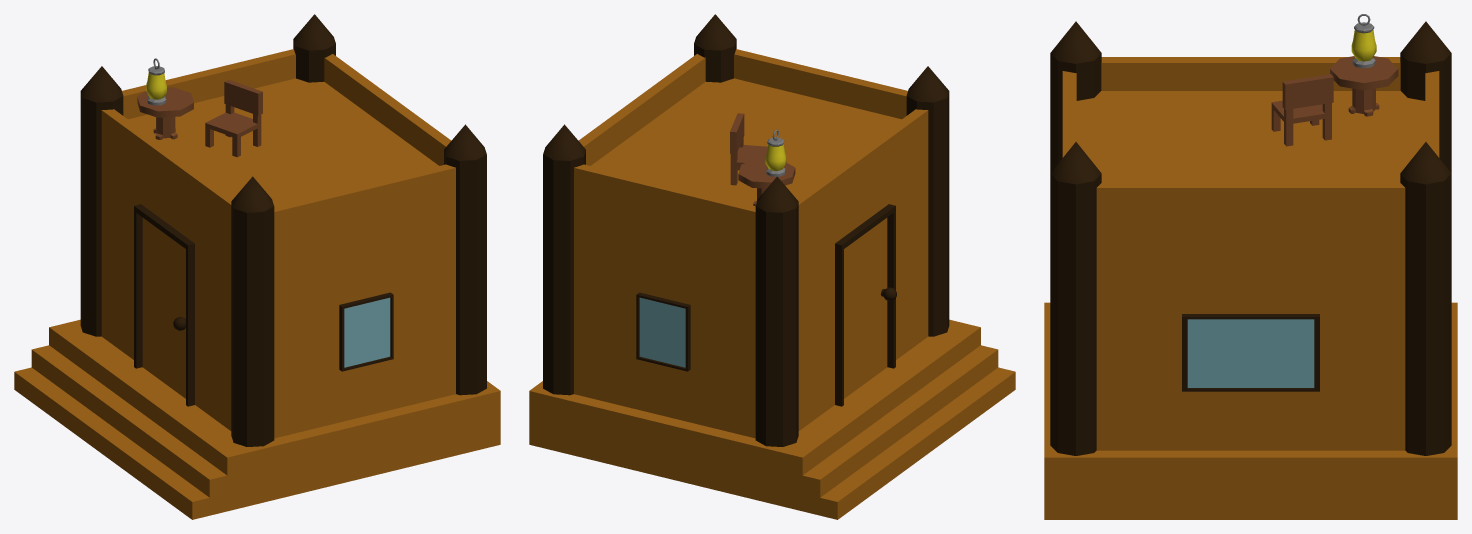
The model's file is TownHall.FBX.
3 renders of one model, left to right at view 1: azimuth 30°, elevation 25°; view 2: azimuth 150°, elevation 25°; view 3: azimuth 270°, elevation 25°, orthographic. The views are drawn at different scales.
Parts seen in each view (by area): view 1: MainHub; view 2: MainHub; view 3: MainHub.
Boxes of the visible parts, x1,y1,x2,y2 form: MainHub: [14, 14, 500, 519]; MainHub: [529, 14, 1015, 519]; MainHub: [1044, 14, 1457, 519].
Size of the model in its own units: 30 by 31.16 by 30.
